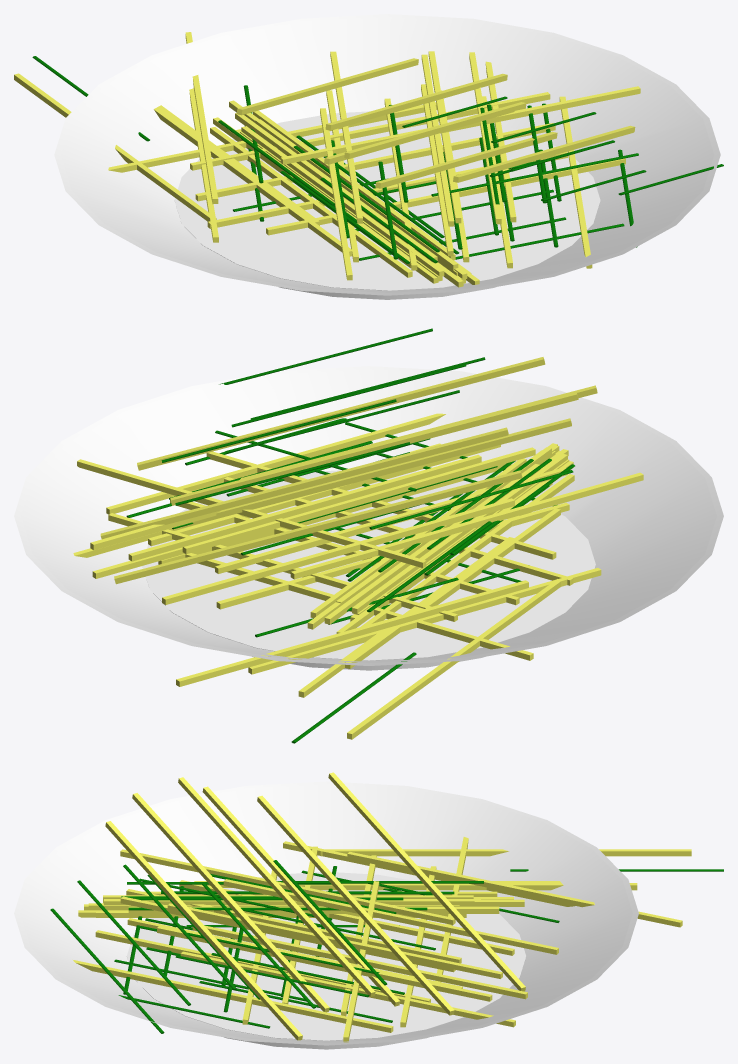
The model's file is PeamanPotatoes.dae.
3 renders of one model, top to bottom at view 1: azimuth 30°, elevation 25°; view 2: azimuth 150°, elevation 25°; view 3: azimuth 270°, elevation 25°, orthographic. The views are drawn at different scales.
Parts seen in each view (by area): view 1: 盘子, 菜 (×18), image_0; view 2: 盘子, 菜 (×21), image_0; view 3: 盘子, 菜 (×28).
Boxes of the visible parts, left/top/right/bottom form: 盘子: left=54, top=14, right=720, bottom=299; 菜 (×18): left=14, top=32, right=640, bottom=287; image_0: left=215, top=141, right=565, bottom=253; 盘子: left=14, top=366, right=723, bottom=670; 菜 (×21): left=77, top=328, right=643, bottom=739; image_0: left=190, top=522, right=544, bottom=625; 盘子: left=14, top=781, right=638, bottom=1049; 菜 (×28): left=50, top=772, right=691, bottom=1042.
Size of the model in its own units: 8.36 by 9.49 by 1.97.
